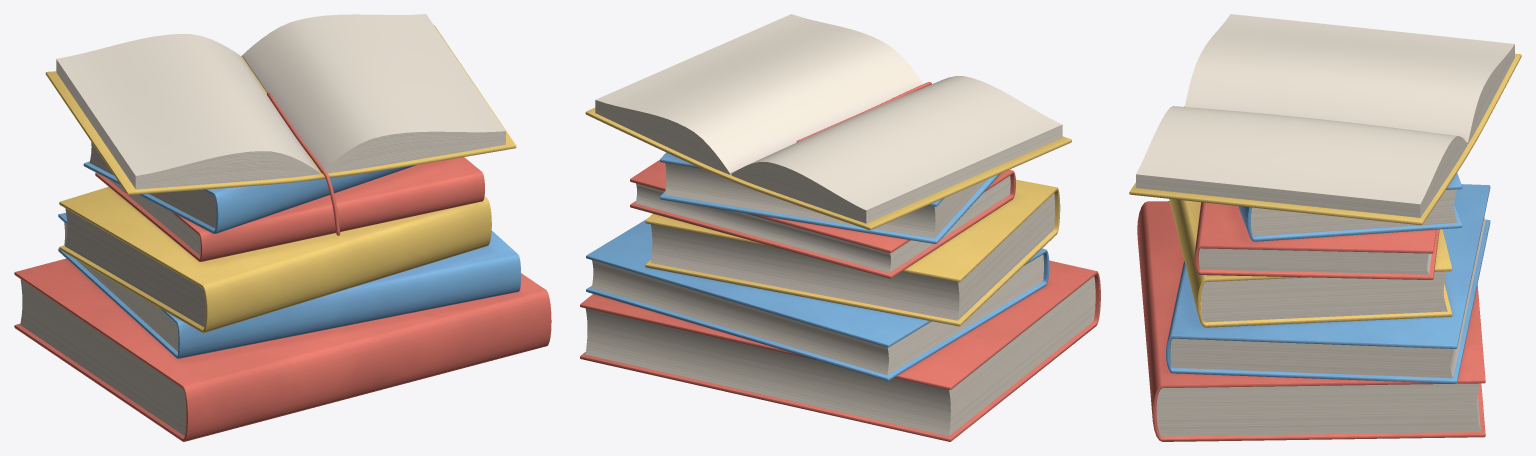
File: book-stack.glb
The picture shows the model from 3 angles, left to right: view 1: azimuth 30°, elevation 25°; view 2: azimuth 150°, elevation 25°; view 3: azimuth 270°, elevation 25°; orthographic projection. The views are drawn at different scales.
Visible parts, largest first — view 1: book-stack_body, book-stack_pages; view 2: book-stack_pages, book-stack_body; view 3: book-stack_pages, book-stack_body.
Part boxes in pixels (bbox=[...]): book-stack_body: bbox=[14, 25, 551, 441]; book-stack_pages: bbox=[20, 14, 505, 435]; book-stack_pages: bbox=[585, 14, 1095, 436]; book-stack_body: bbox=[580, 82, 1100, 441]; book-stack_pages: bbox=[1136, 14, 1514, 436]; book-stack_body: bbox=[1129, 53, 1521, 441].
Bounding box in the file's own units: 0.3136 × 0.1871 × 0.2608.
Materials: 2 (2 with a texture image).
